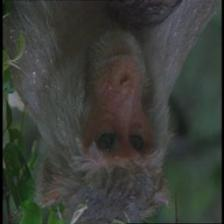monkey: (32, 23, 174, 224)
